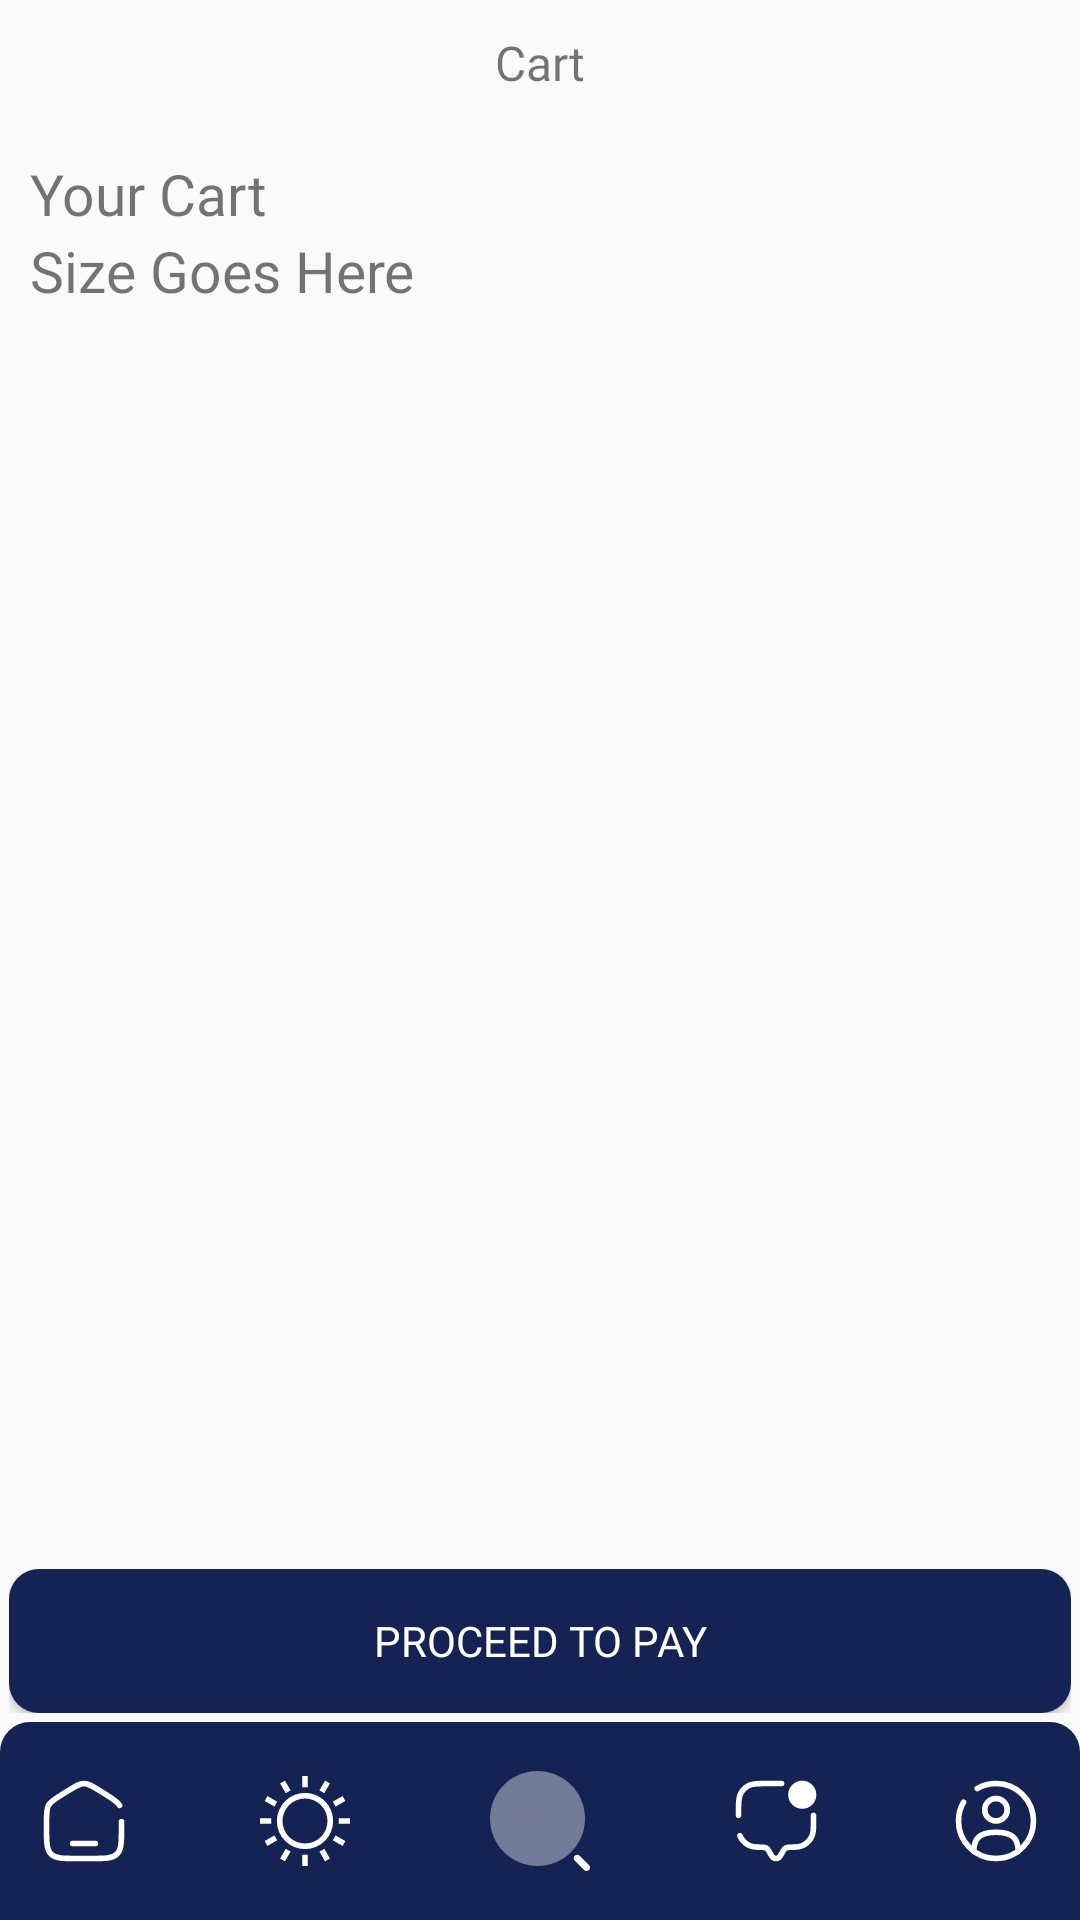

Where icons sit on this 1080x1920 app screen, as [x1=x1, y1=y1, x2=x2, y2=y2]:
chat: [x1=735, y1=1780, x2=817, y2=1862]
home: [x1=43, y1=1780, x2=125, y2=1862]
search ai: [x1=490, y1=1771, x2=590, y2=1871]
user: [x1=955, y1=1780, x2=1037, y2=1862]
weather: [x1=260, y1=1776, x2=350, y2=1866]
